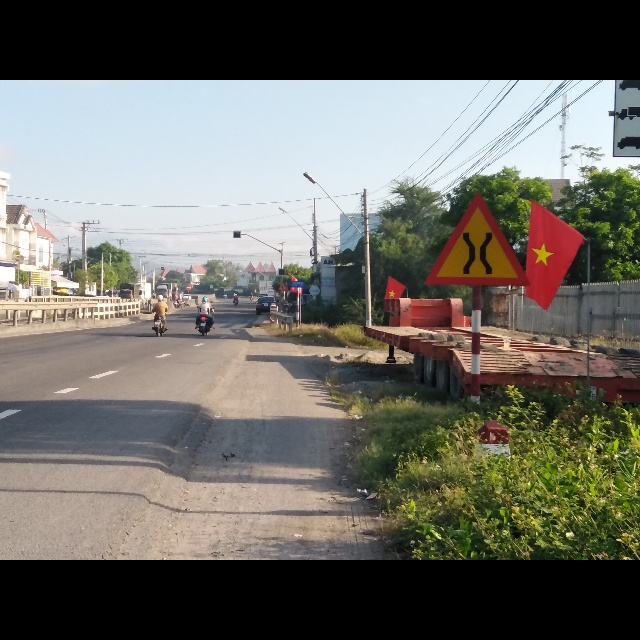Cầu hẹp: (423, 194, 528, 288)
